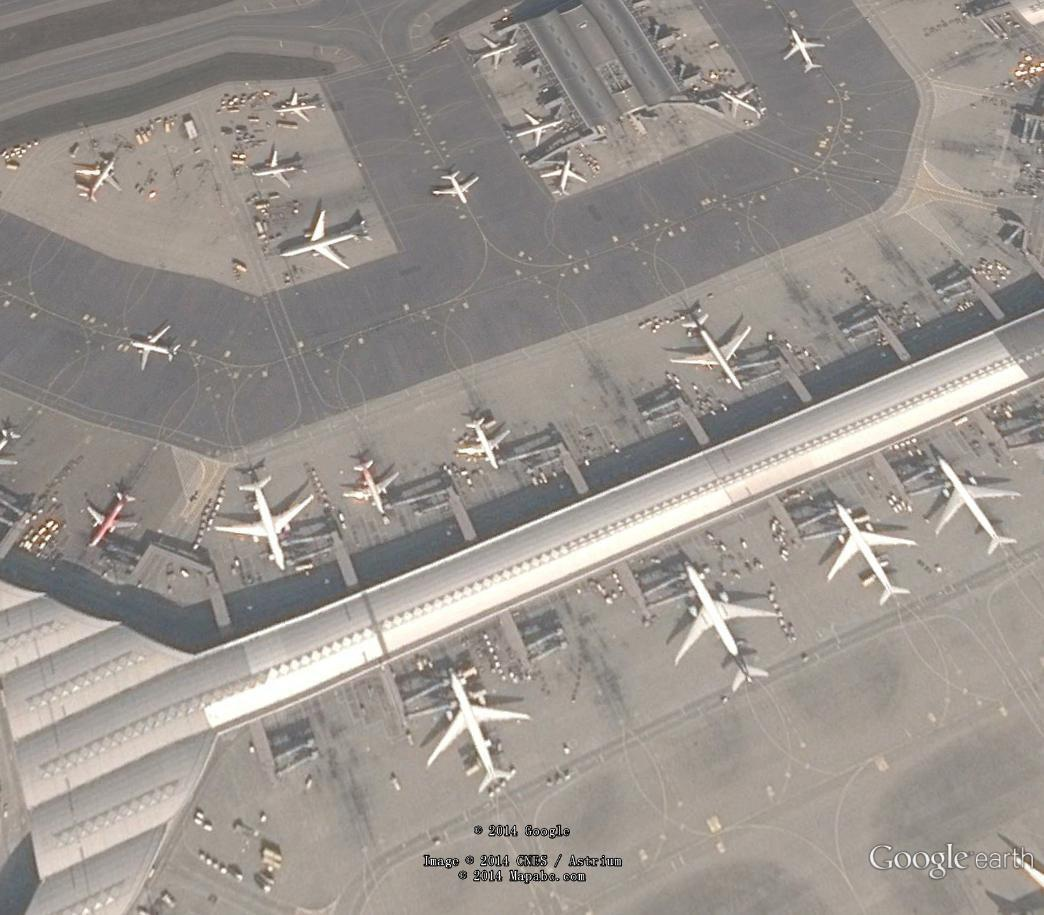aircraft: (670, 553, 790, 700), (417, 669, 534, 793), (819, 492, 921, 612), (922, 451, 1032, 559), (207, 474, 318, 577), (660, 304, 759, 397), (268, 201, 378, 276), (63, 483, 142, 552), (333, 451, 402, 519), (451, 411, 520, 477), (67, 154, 132, 210), (244, 144, 316, 193), (118, 316, 186, 367), (711, 76, 777, 126), (499, 105, 570, 150), (778, 21, 835, 73), (537, 153, 591, 207), (274, 81, 331, 130), (462, 33, 522, 76), (426, 165, 483, 205)
